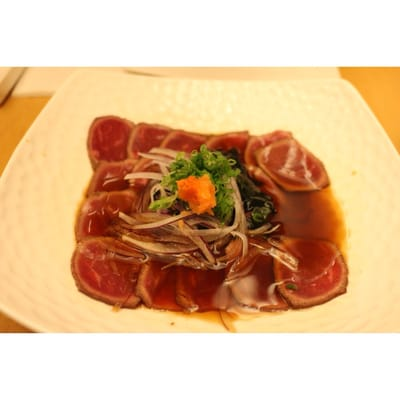curry: (163, 144, 243, 225)
